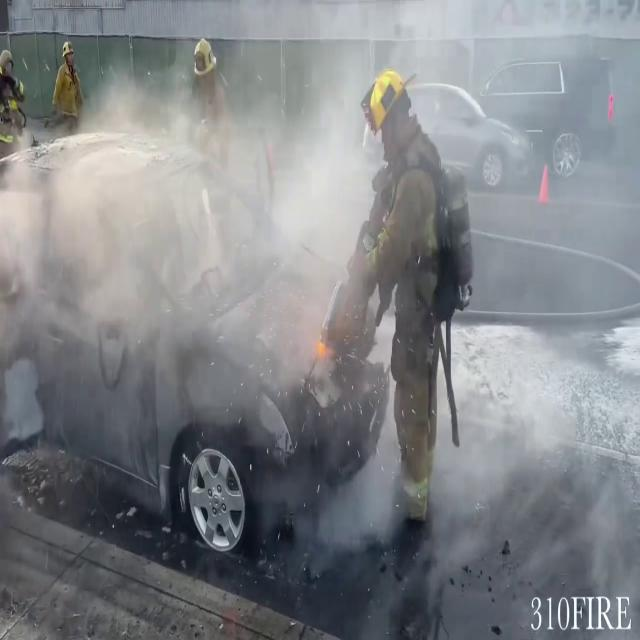Smoke: (0, 38, 416, 556)
